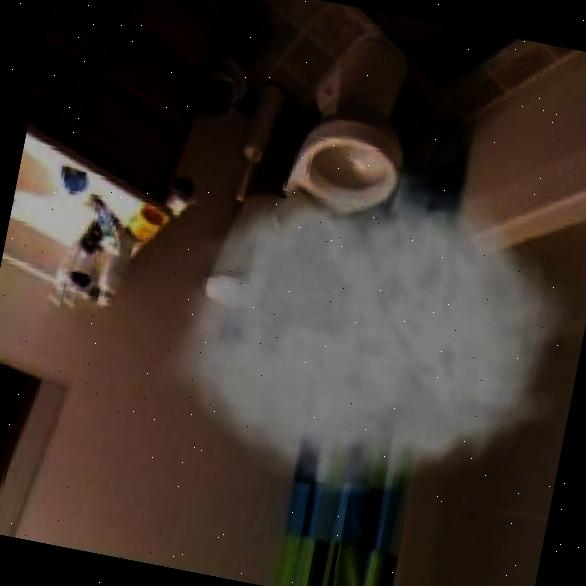smoke: (155, 143, 586, 537)
